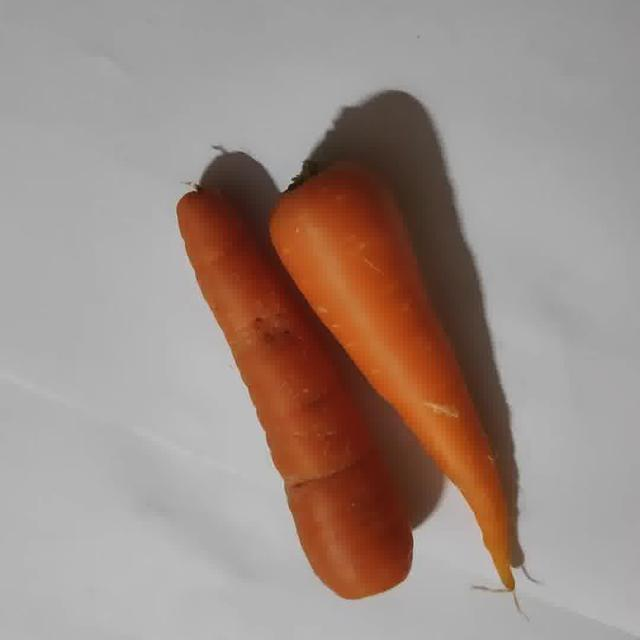Carrot: (271, 171, 513, 588), (177, 189, 412, 599)
